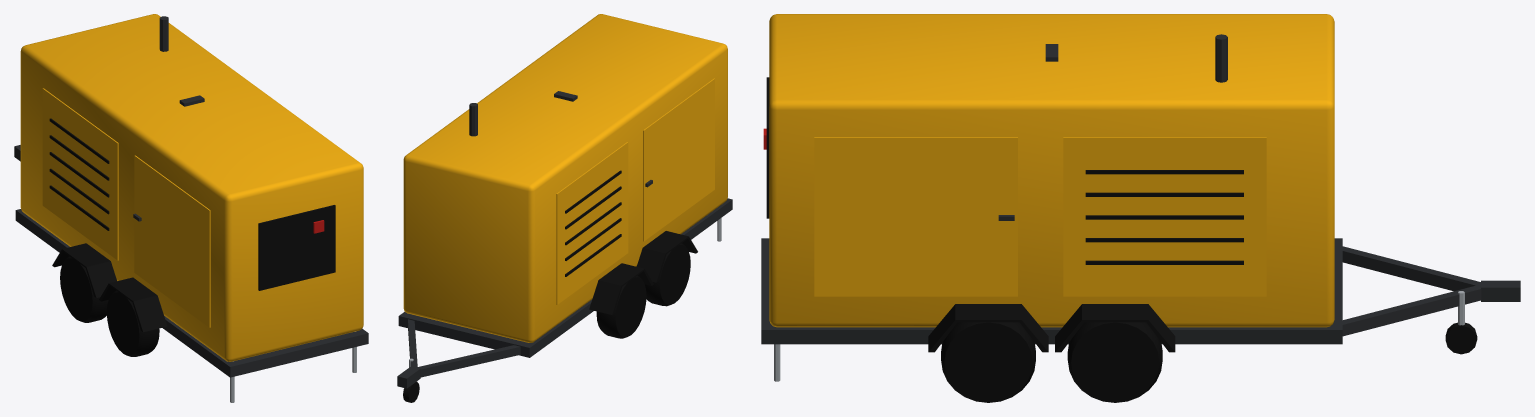
File: plant.small.generator_200kva.glb
The picture shows the model from 3 angles, left to right: view 1: azimuth 30°, elevation 25°; view 2: azimuth 150°, elevation 25°; view 3: azimuth 270°, elevation 25°; orthographic projection. The views are drawn at different scales.
Parts seen in each view (by area): view 1: main__plant_yellow, main__plastic_black, main__steel_dark, wheels__rubber, wheels__plastic_black; view 2: main__plant_yellow, main__steel_dark, wheels__rubber, wheels__plastic_black, main__plastic_black; view 3: main__plant_yellow, main__steel_dark, wheels__rubber, main__plastic_black, wheels__plastic_black.
Boxes of the visible parts, left/top/right/bottom form: main__plant_yellow: left=20, top=14, right=363, bottom=361; main__plastic_black: left=49, top=118, right=335, bottom=290; main__steel_dark: left=14, top=16, right=368, bottom=377; wheels__rubber: left=60, top=256, right=159, bottom=356; wheels__plastic_black: left=52, top=243, right=167, bottom=332; main__plant_yellow: left=403, top=14, right=727, bottom=342; main__steel_dark: left=397, top=91, right=732, bottom=388; wheels__rubber: left=596, top=243, right=690, bottom=338; wheels__plastic_black: left=589, top=231, right=697, bottom=314; main__plastic_black: left=403, top=170, right=621, bottom=402; main__plant_yellow: left=769, top=14, right=1334, bottom=327; main__steel_dark: left=761, top=34, right=1520, bottom=344; wheels__rubber: left=941, top=322, right=1162, bottom=402; main__plastic_black: left=766, top=77, right=1477, bottom=354; wheels__plastic_black: left=928, top=304, right=1175, bottom=352.
Bounding box in the file's own units: 1.87 × 2.3 × 4.8.
